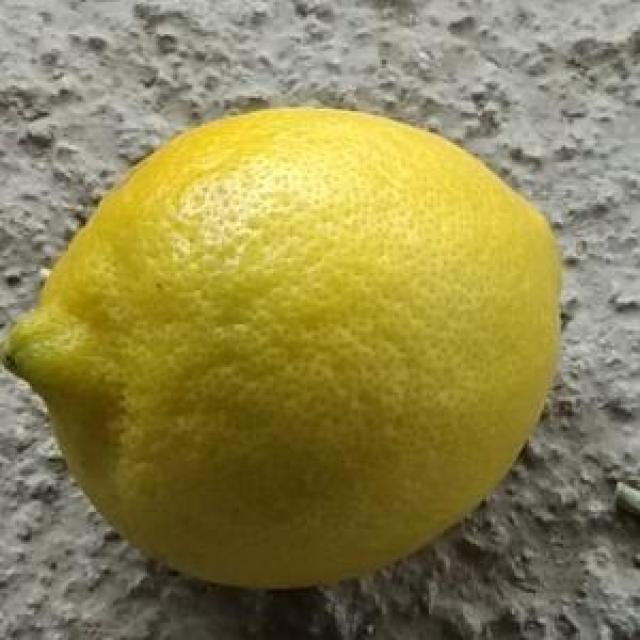lemon: (6, 102, 561, 587)
